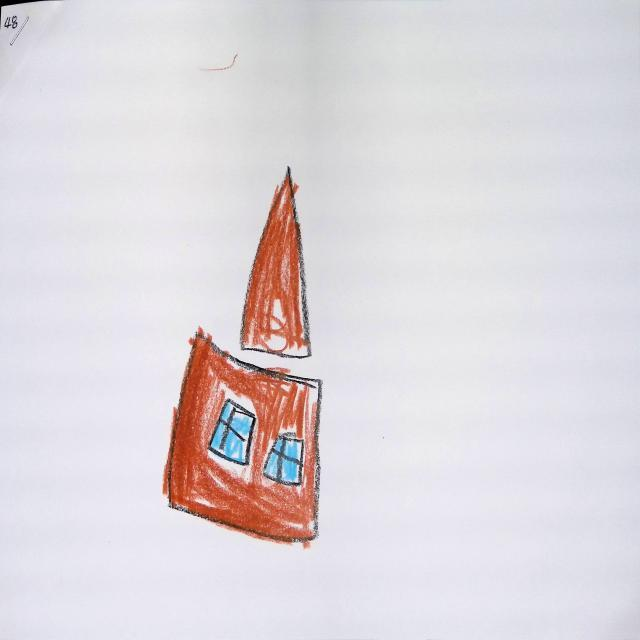house: (164, 166, 322, 545)
roof: (243, 168, 311, 358)
wall: (169, 332, 317, 543)
window: (209, 400, 256, 465), (264, 434, 302, 486)
